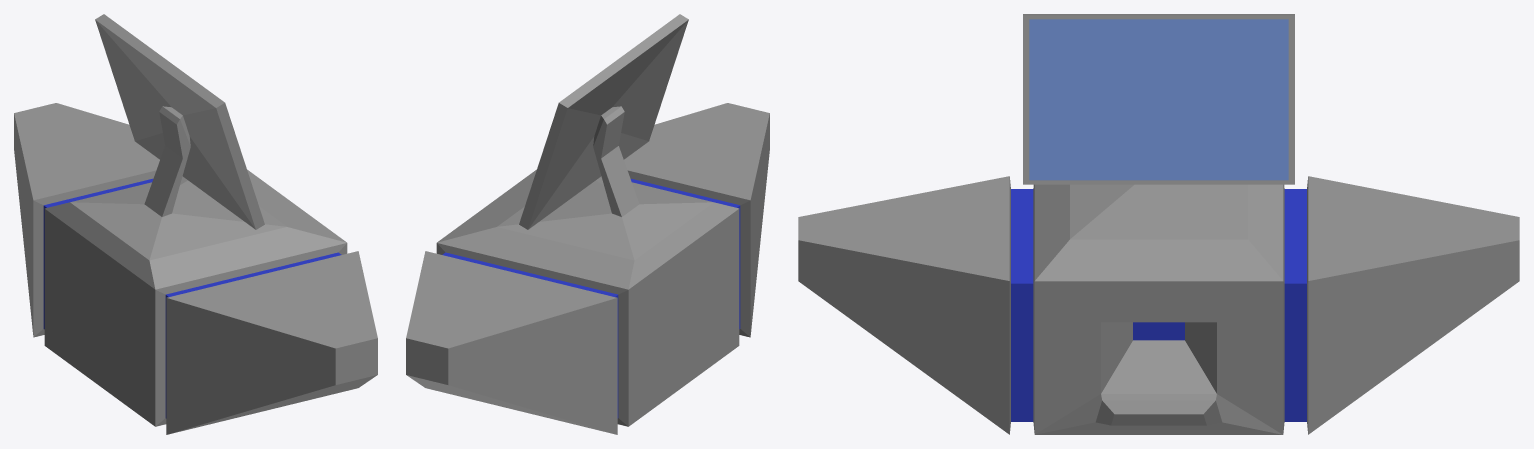
File: CraftingStation_02.fbx
The picture shows the model from 3 angles, left to right: view 1: azimuth 30°, elevation 25°; view 2: azimuth 150°, elevation 25°; view 3: azimuth 270°, elevation 25°; orthographic projection. The views are drawn at different scales.
Parts seen in each view (by area): view 1: Cube; view 2: Cube; view 3: Cube.
Part boxes in pixels (bbox=[...]): Cube: bbox=[14, 14, 377, 434]; Cube: bbox=[406, 14, 769, 434]; Cube: bbox=[798, 14, 1519, 434].
Size of the model in its own units: 234 by 311 by 580.
